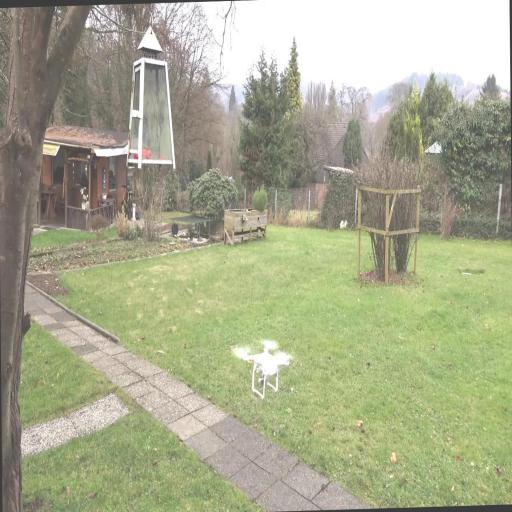drone: (237, 339, 290, 399)
